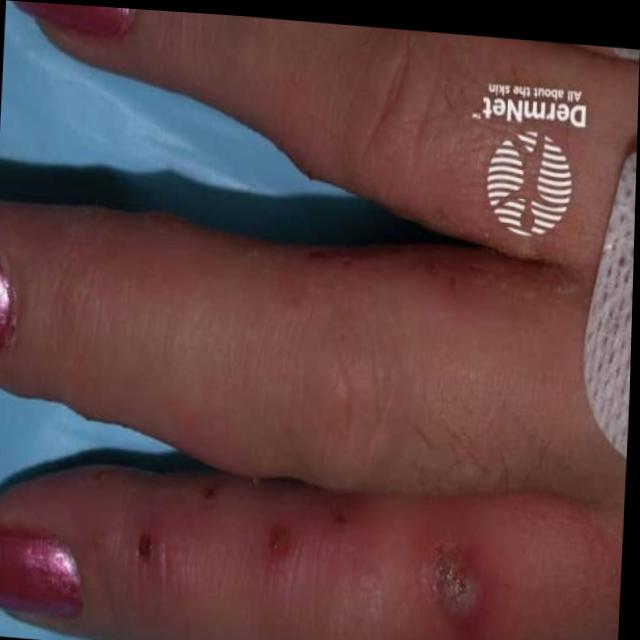Eczema: (124, 464, 490, 627), (225, 216, 591, 326)
